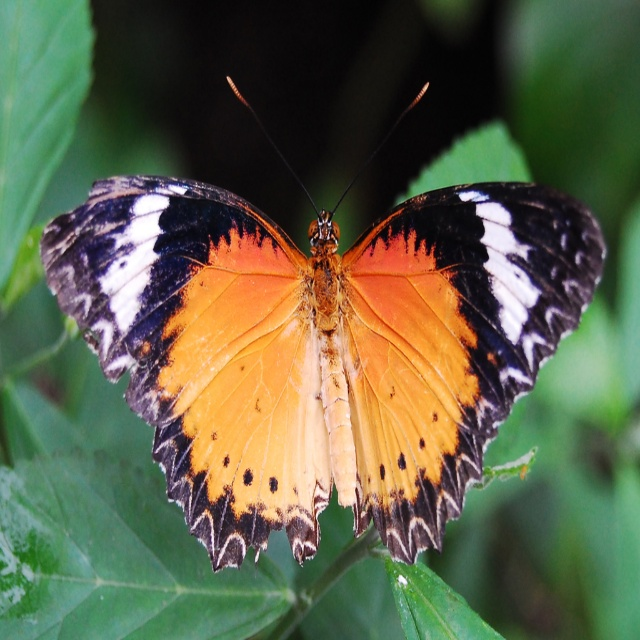Butterfly: (42, 73, 602, 576)
